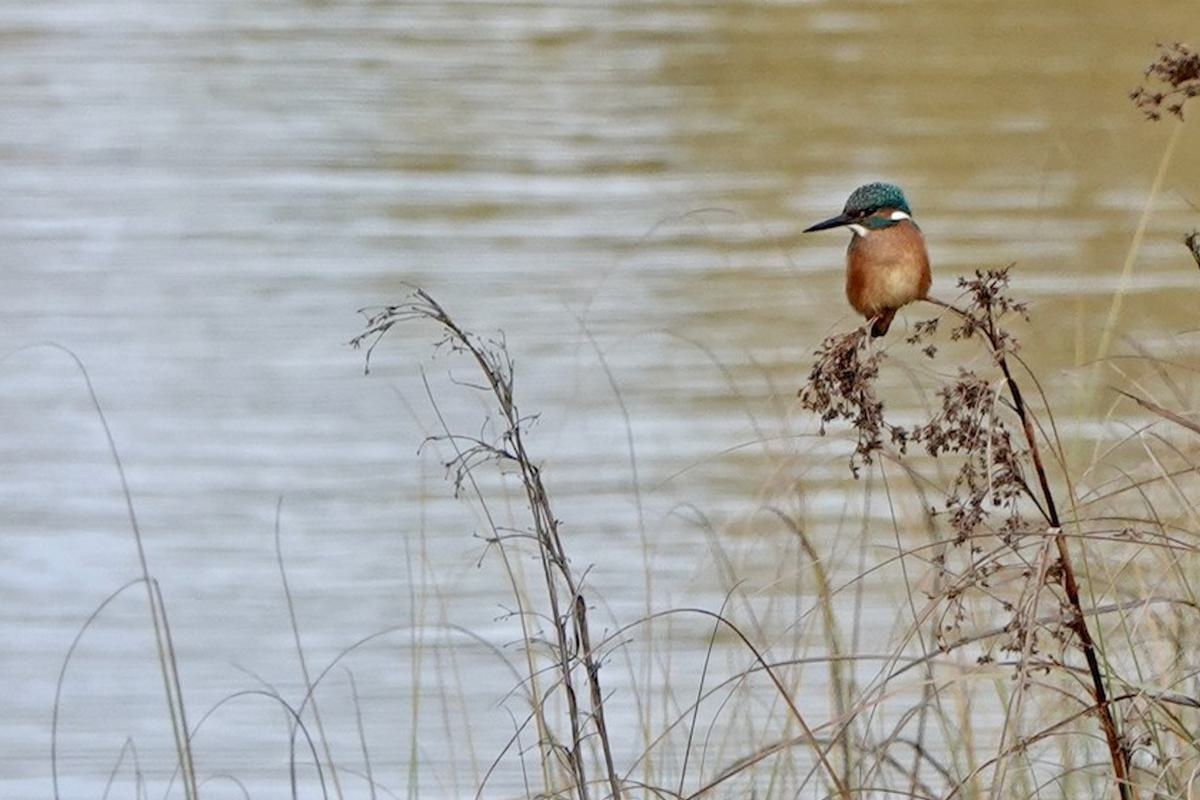kingfisher: (783, 142, 946, 342)
